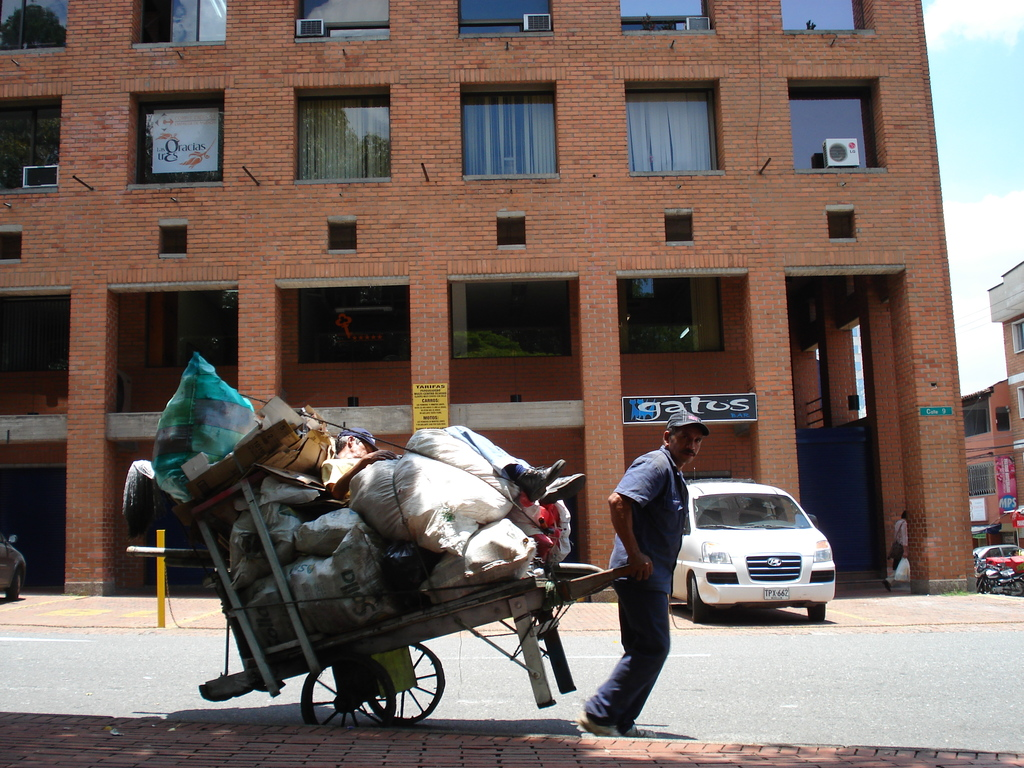Car: (661, 477, 840, 637), (976, 542, 1023, 583), (0, 536, 27, 597)
